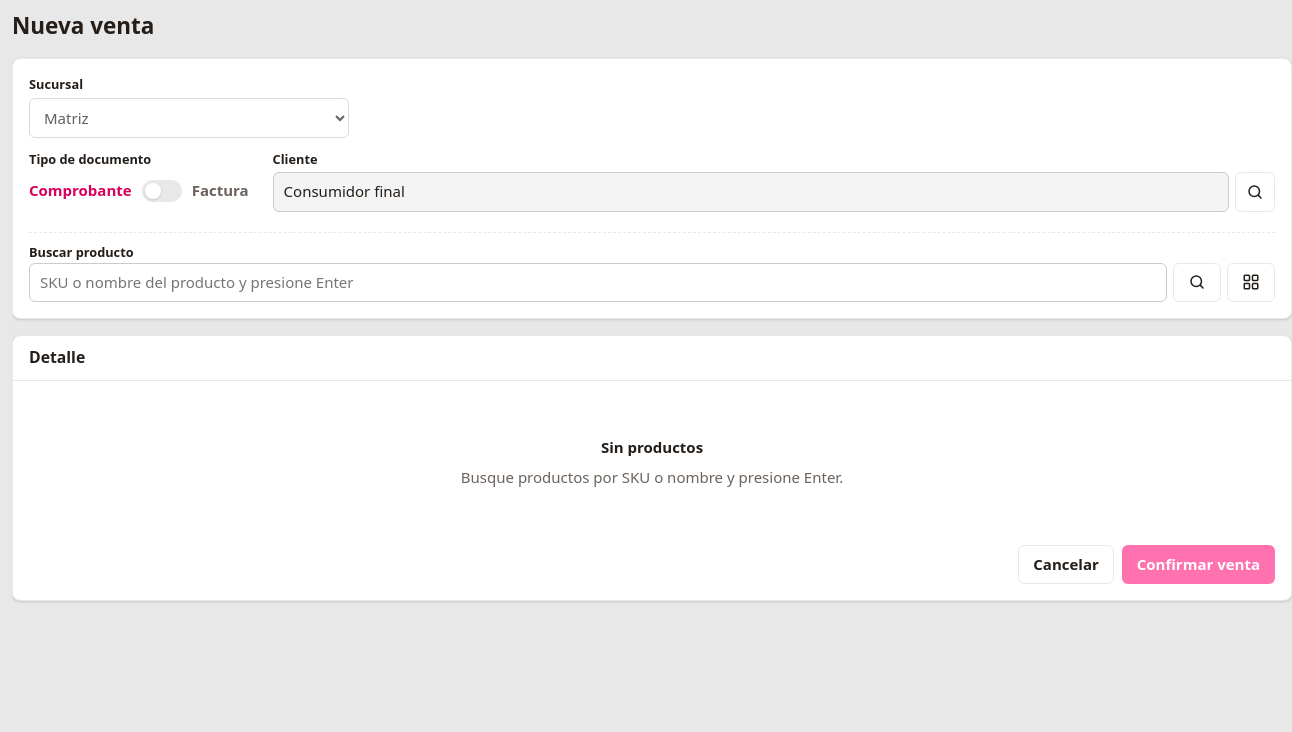
Test case: NewSalePage › searches in the seller branch with Enter and shows image, SKU, name, quantity, stock and price
The width and height of the screenshot is (1292, 732).
Type "pan-a" into the field labelled "Buscar producto" at {"x": 598, "y": 282}, box [29,263,1167,302]
Then press Enter
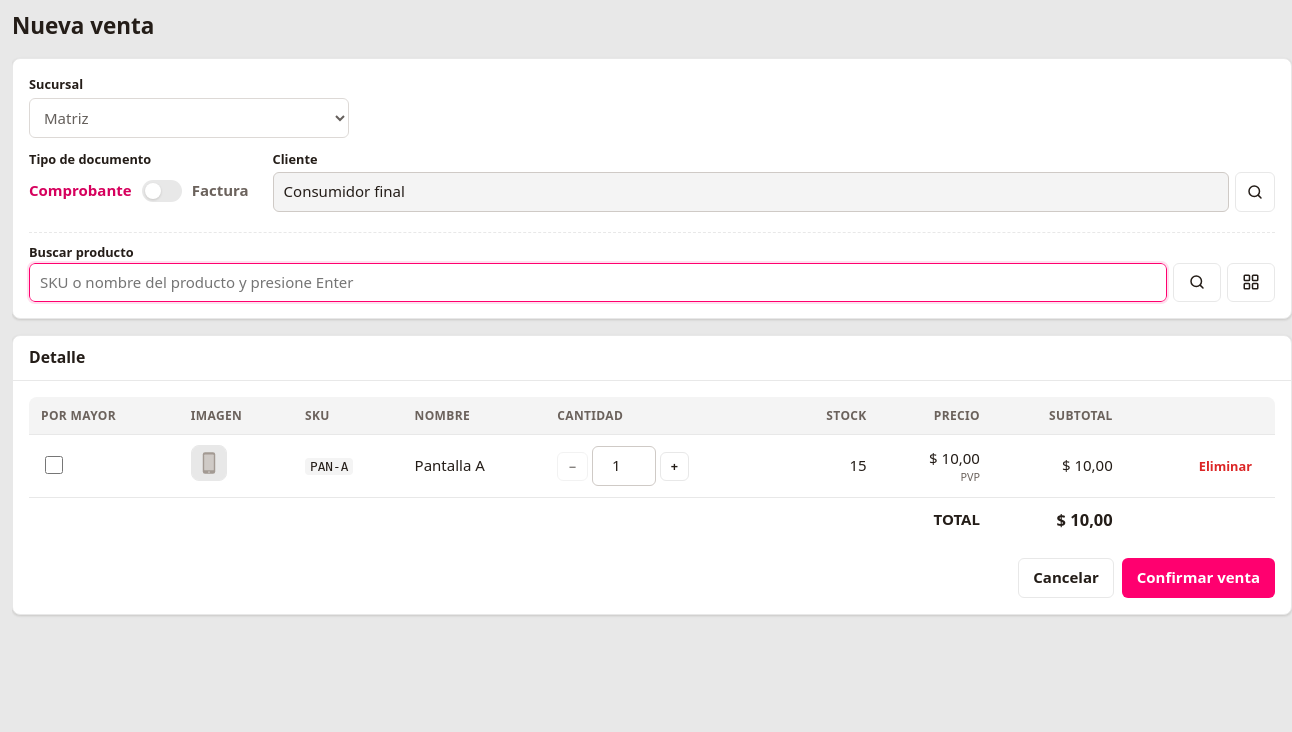
expect the text "PAN-A" is shown: met, box [305,458,353,475]
expect the text "Pantalla A" is shown: met, box [403,435,545,498]
expect the text "15" is shown: met, box [781,435,879,498]
Click the button named "Agregar una unidad de Pantalla A" at {"x": 674, "y": 466}, box [660,452,689,480]
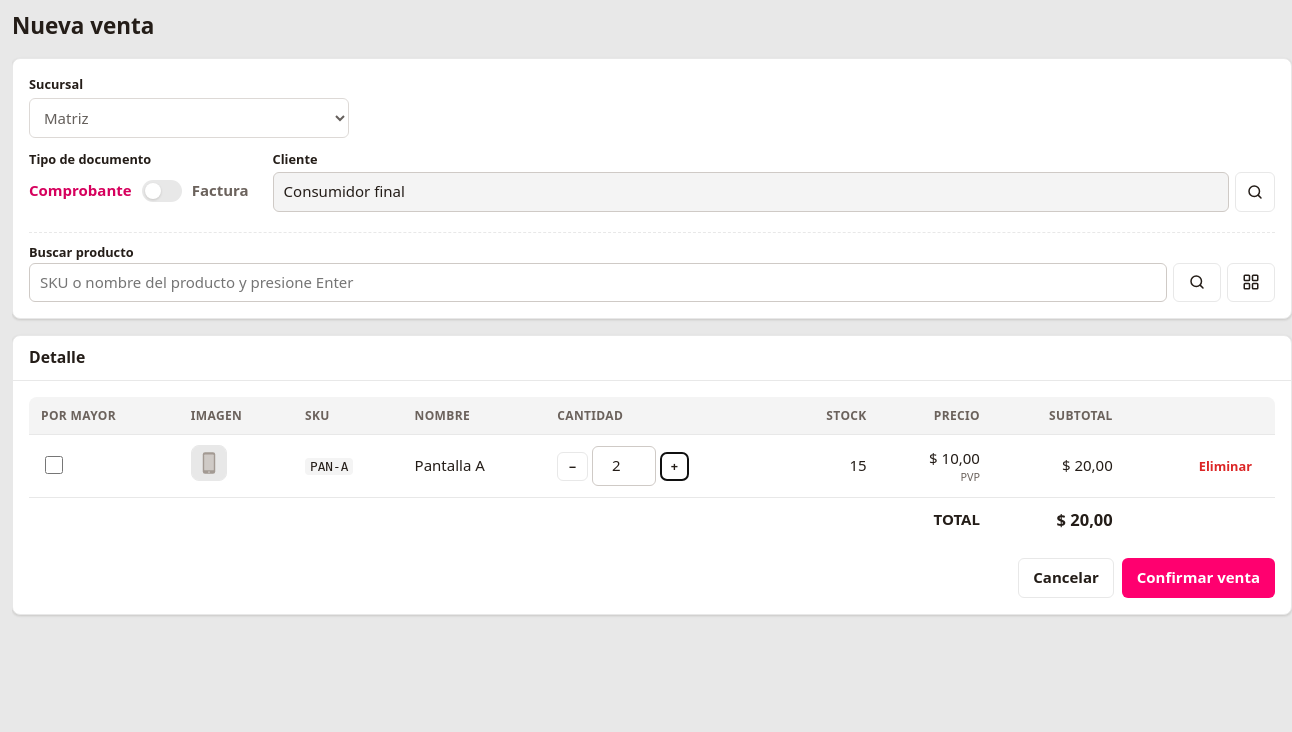
Click the button named "Agregar una unidad de Pantalla A" at {"x": 674, "y": 466}, box [660,452,689,480]
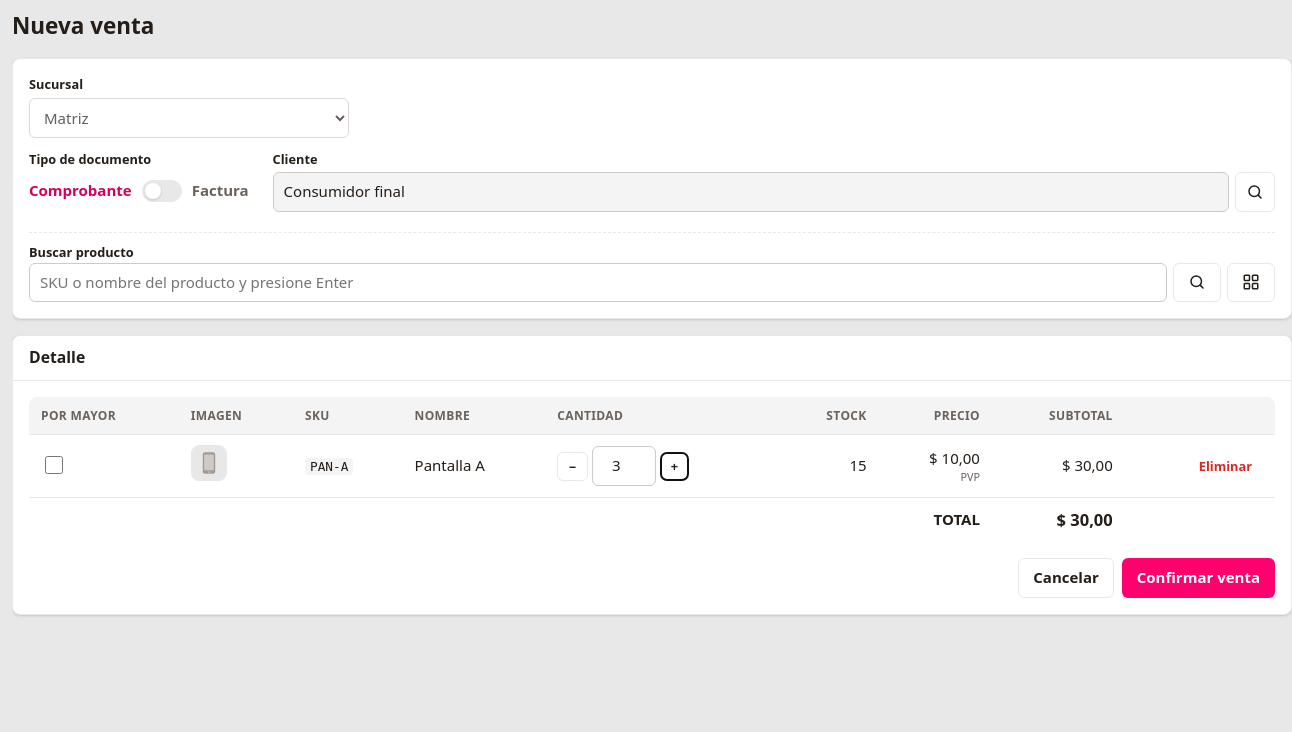
expect the number field named "Cantidad de Pantalla A" holds "3": met, box [592,446,656,486]
Click the button named "Quitar una unidad de Pantalla A" at {"x": 573, "y": 466}, box [557,452,588,480]
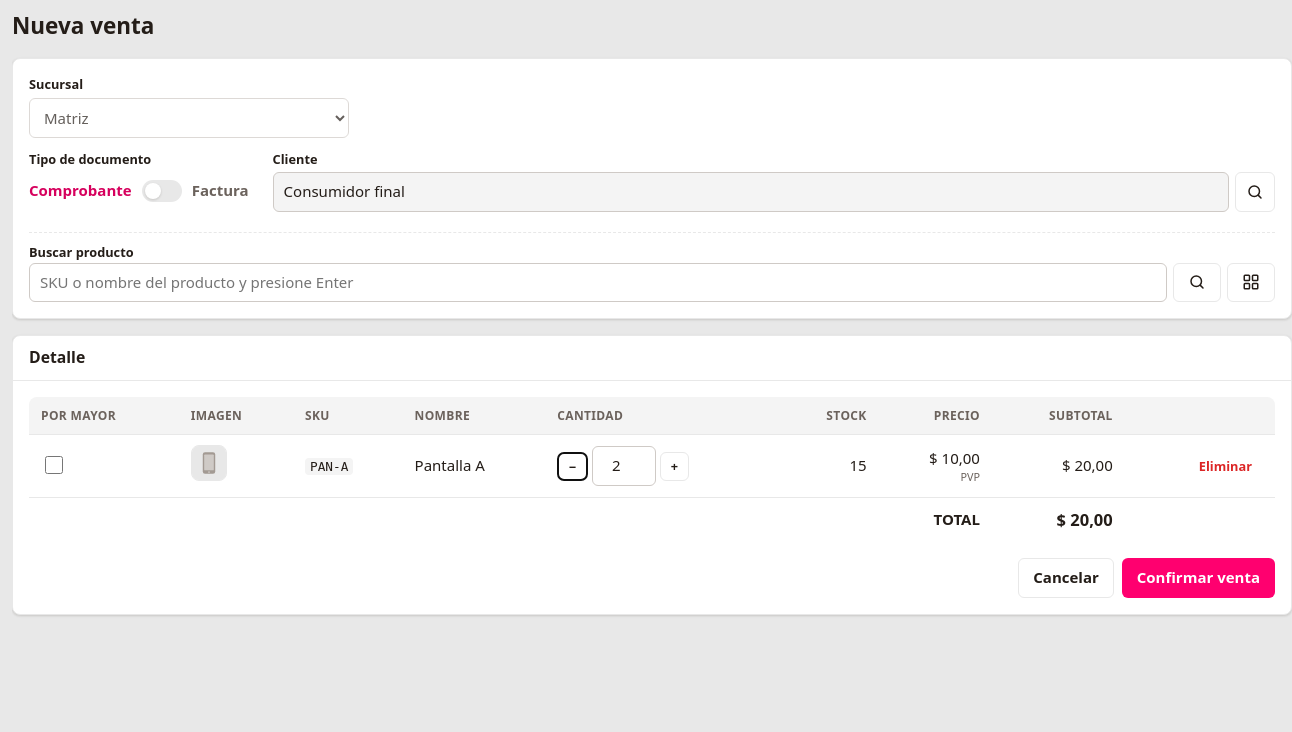
expect the number field named "Cantidad de Pantalla A" holds "2": met, box [592,446,656,486]
expect the cell with test id "sale-total" shows "20,00": met, box [1056,508,1113,531]
